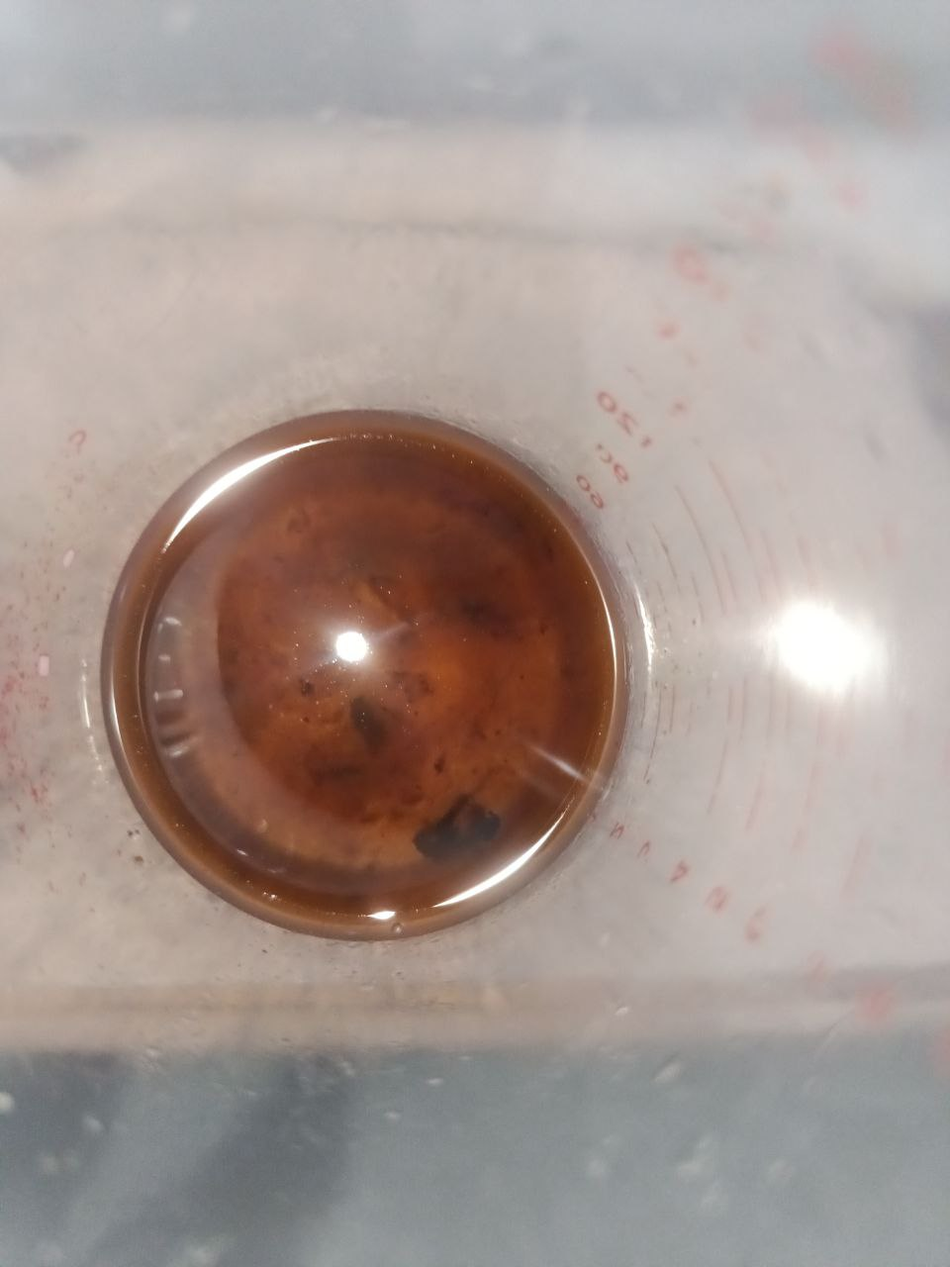non-reusable: (106, 412, 620, 940)
